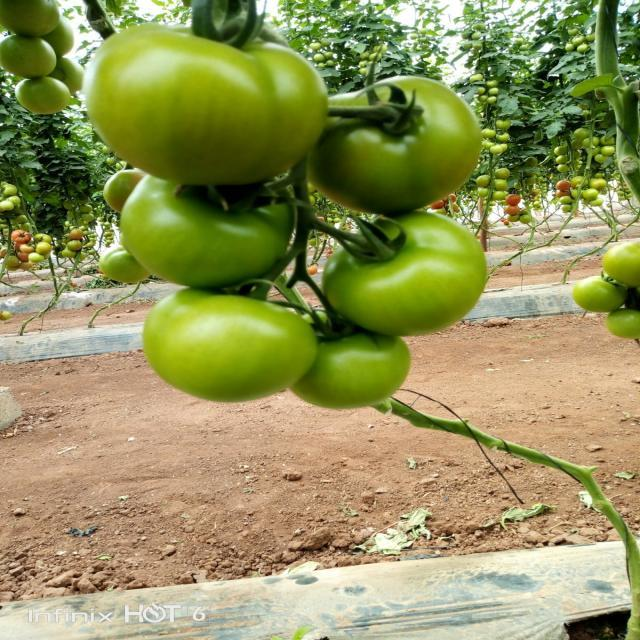Unripe Tomato: (80, 36, 336, 168), (306, 72, 502, 204), (93, 178, 310, 288), (333, 206, 510, 328), (141, 296, 312, 400), (296, 336, 422, 406)
